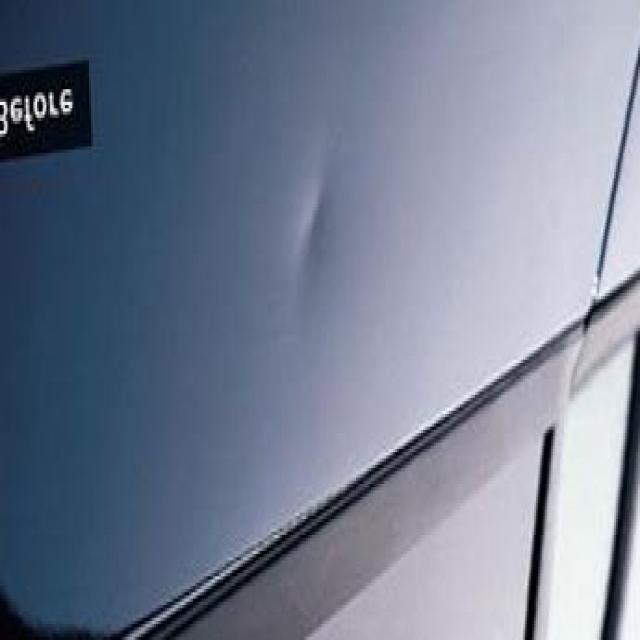dent: (300, 151, 342, 269)
